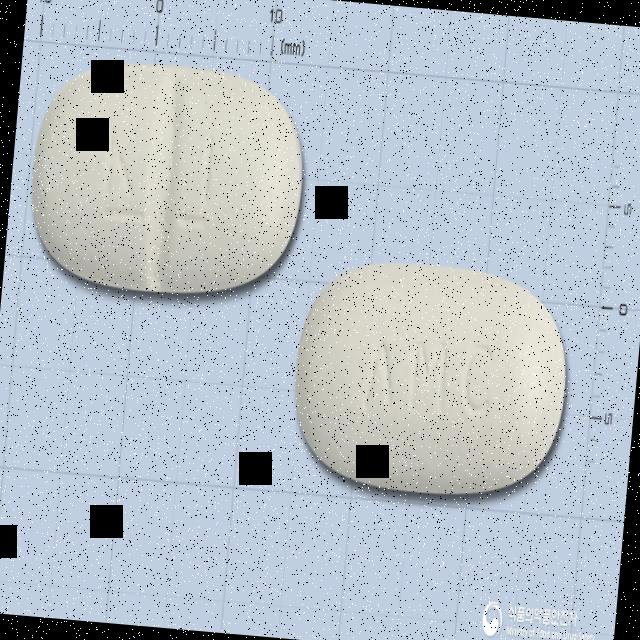Amocla Duo500mg: (22, 48, 314, 310), (284, 254, 576, 506)
